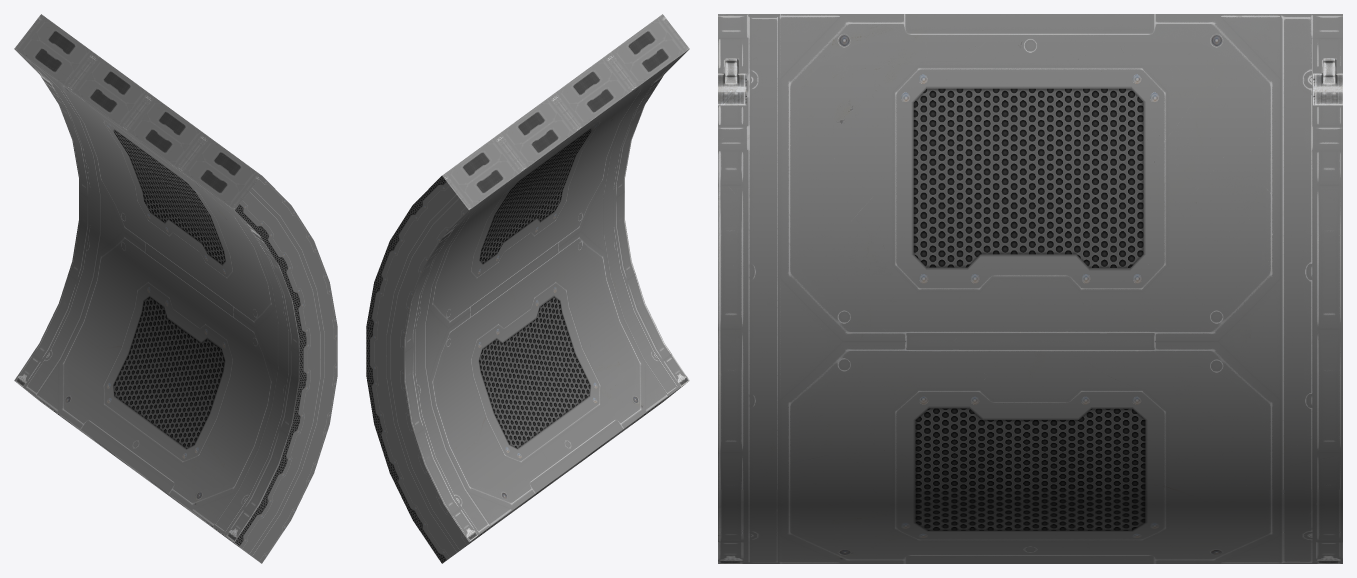
File: SM_Walls_CURVED07.fbx
3 renders of one model, left to right at view 1: azimuth 30°, elevation 25°; view 2: azimuth 150°, elevation 25°; view 3: azimuth 270°, elevation 25°, orthographic. The views are drawn at different scales.
Parts seen in each view (by area): view 1: SM_Walls_CURVED07_LOD0; view 2: SM_Walls_CURVED07_LOD0; view 3: SM_Walls_CURVED07_LOD0.
Part boxes in pixels (<box>): SM_Walls_CURVED07_LOD0: <box>14,14,337,563</box>; SM_Walls_CURVED07_LOD0: <box>366,14,689,563</box>; SM_Walls_CURVED07_LOD0: <box>718,14,1342,563</box>.
Size of the model in its own units: 108 by 400 by 388.
Materials: 1 (1 with a texture image).
